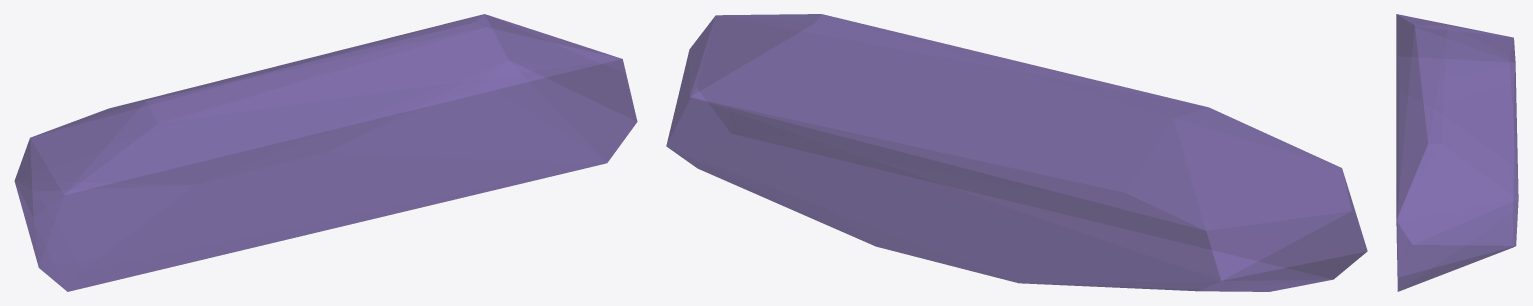
The picture shows the model from 3 angles, left to right: view 1: azimuth 30°, elevation 25°; view 2: azimuth 150°, elevation 25°; view 3: azimuth 270°, elevation 25°; orthographic projection. The views are drawn at different scales.
Visible parts, largest first — view 1: Shape_IndexedFaceSet.012_Shape_IndexedFaceSet.18165; view 2: Shape_IndexedFaceSet.012_Shape_IndexedFaceSet.18165; view 3: Shape_IndexedFaceSet.012_Shape_IndexedFaceSet.18165.
Part boxes in pixels (x1,y1,x2,y2): Shape_IndexedFaceSet.012_Shape_IndexedFaceSet.18165: (14,14,637,291); Shape_IndexedFaceSet.012_Shape_IndexedFaceSet.18165: (666,14,1367,291); Shape_IndexedFaceSet.012_Shape_IndexedFaceSet.18165: (1396,14,1518,291).
Size of the model in its own units: 0.5479 by 0.1293 by 0.1279.
